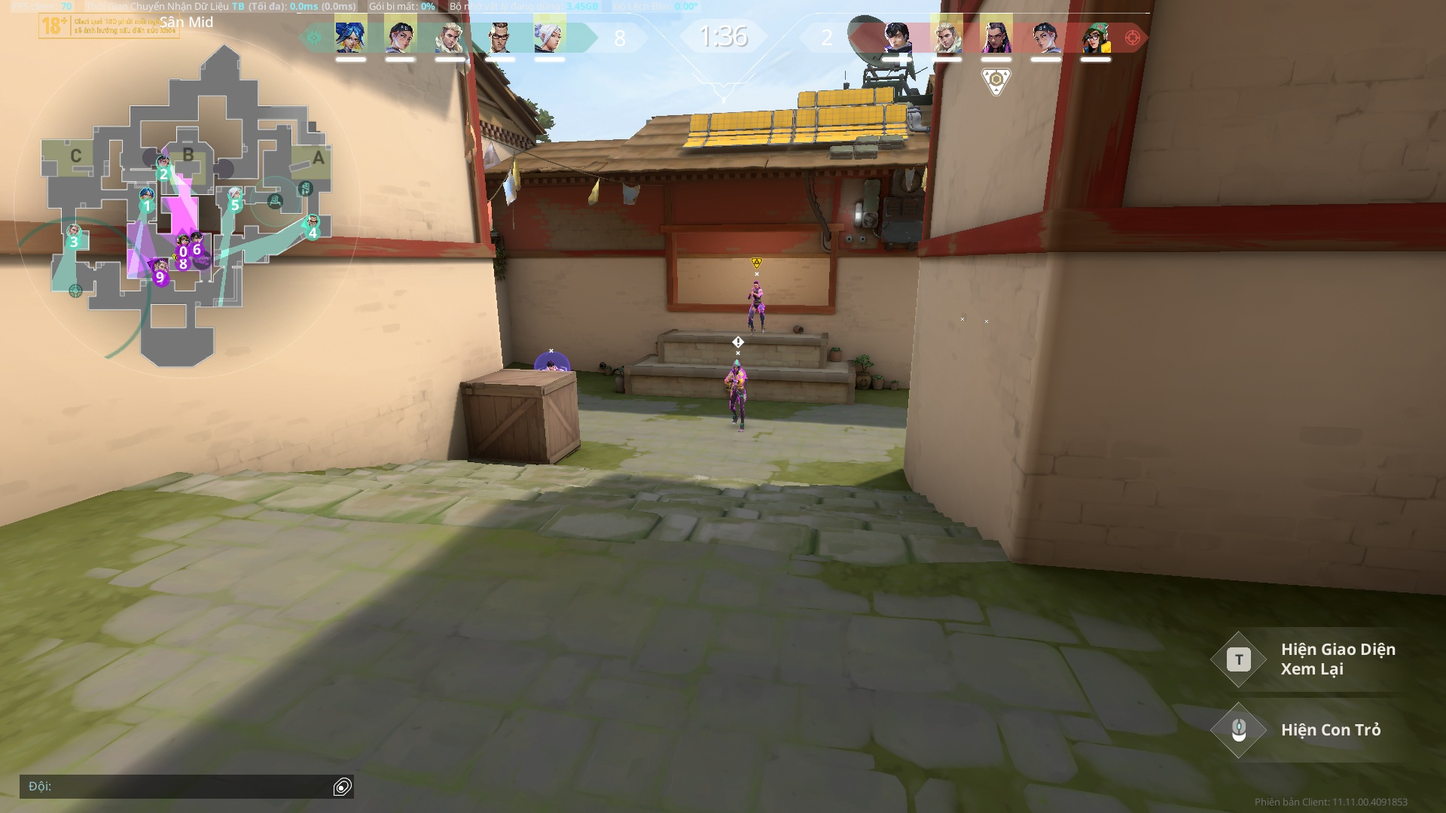body: (727, 371, 746, 388), (748, 288, 764, 303)
head: (546, 360, 557, 370), (732, 362, 742, 371), (752, 280, 760, 288)
